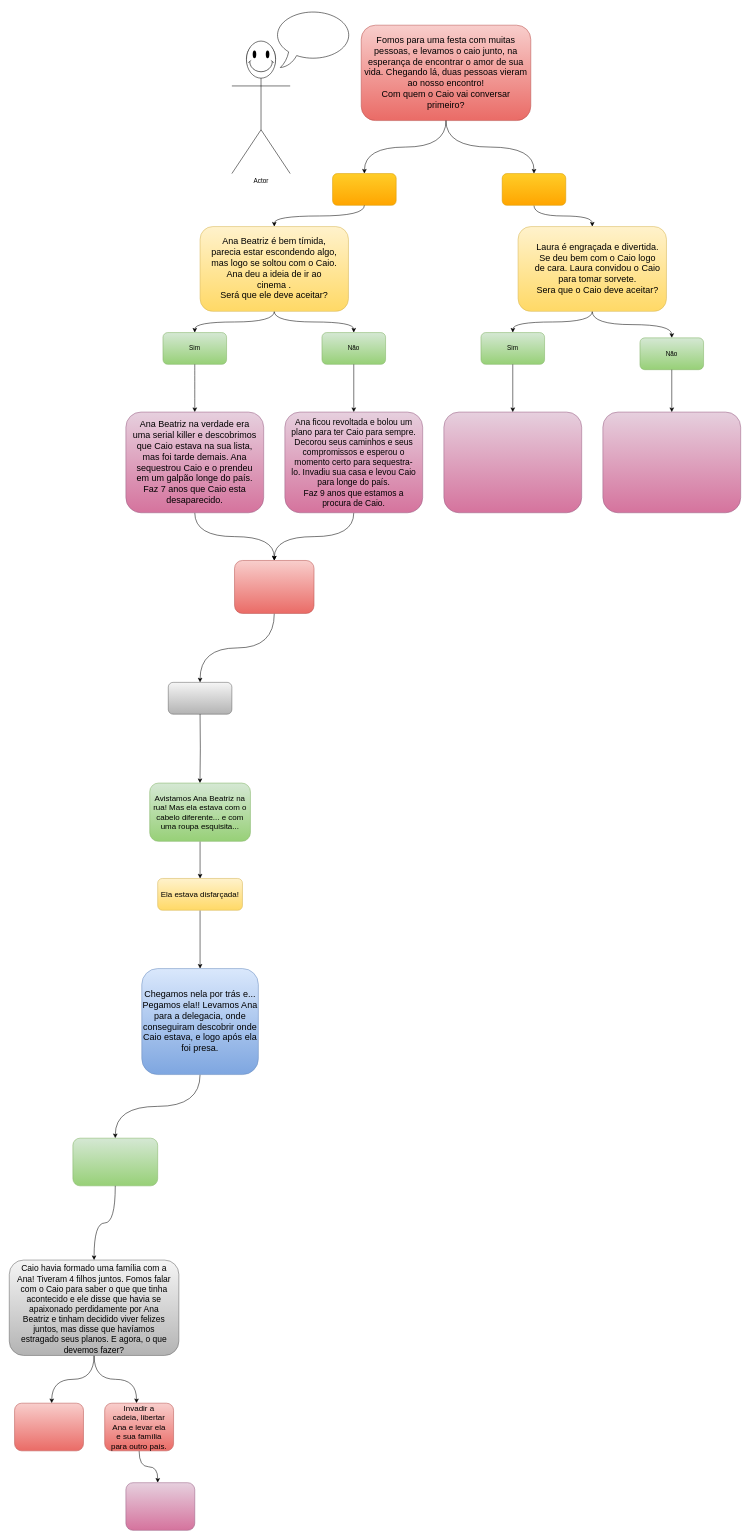
This 750x1540 diagram has some shape labels left out. The centre of each missing label's shape, as x and y in pixels:
"Ana Beatriz" goes at (364,189).
"Fomos pegos! Os policias nos viram tentando quebrar uma janela..." goes at (160,1506).
"Laura" goes at (534,189).
"Levar Caio e os filhos para um lugar melhor, mas mantem Ana presa." goes at (48,1427).
"Mas calma..." goes at (200,698).
"Porém, ao chegar na casa onde Caio estava, ficamos chocados ao ver..." goes at (115,1162).
"Vamos arrumar uma namorada para o Caio?" goes at (313,38).
"Você perdeu!" goes at (274,586).
